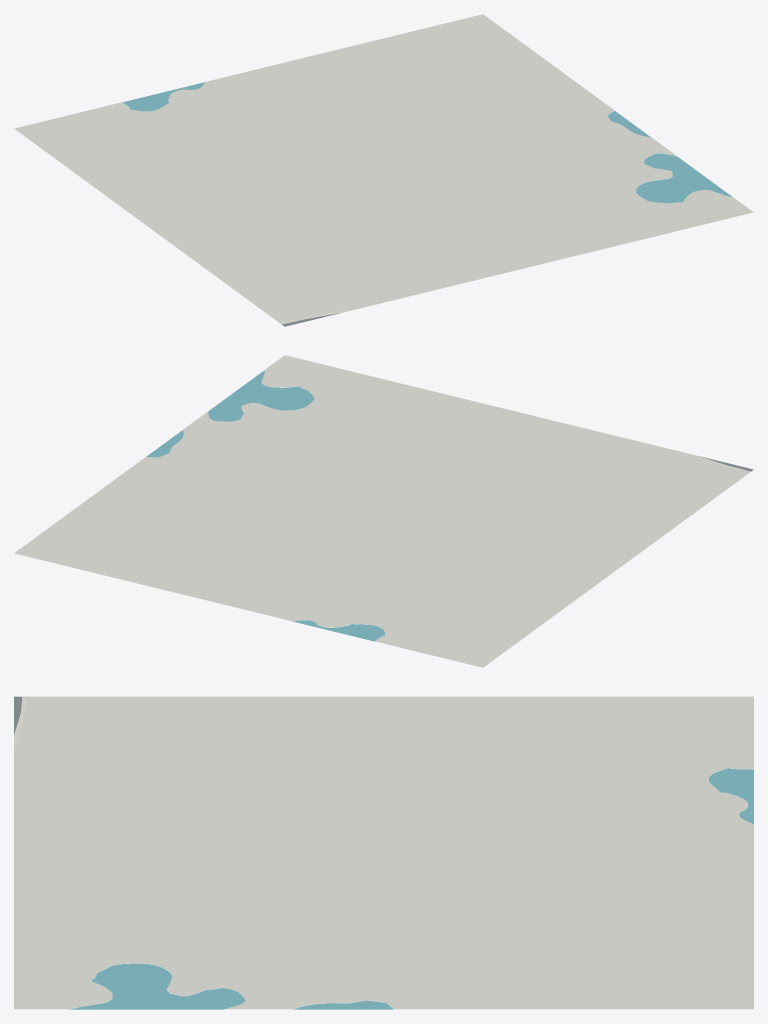
The picture shows the model from 3 angles, top to bottom: view 1: azimuth 30°, elevation 25°; view 2: azimuth 150°, elevation 25°; view 3: azimuth 270°, elevation 25°; orthographic projection. The views are drawn at different scales.
Parts seen in each view (by area): view 1: city; view 2: city; view 3: city.
Boxes of the visible parts, x1,y1,x2,y2 form: city: (14,14,753,326); city: (14,355,753,667); city: (14,696,753,1009).
Bounding box in the file's own units: 500 × 0.4 × 500.
